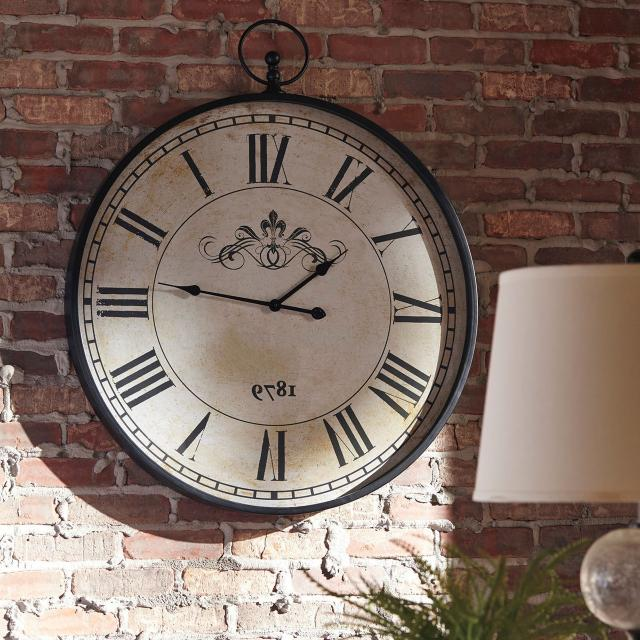clock: (0, 55, 538, 623)
